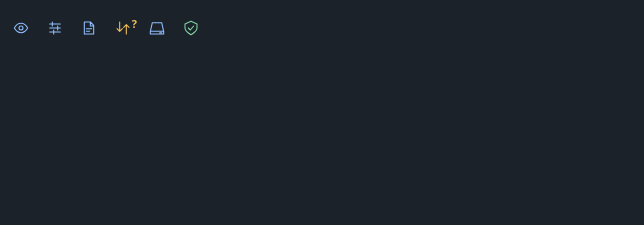
network preserves measured zeros and hides fully unknown rows and combined totals
Hover over the button named "Network": x=123, y=28 [107, 12, 139, 44]
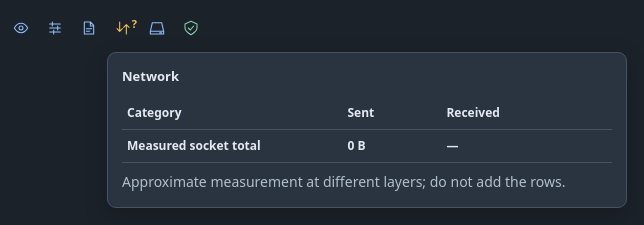
Expected: the number of rows is 2, [122, 96, 612, 129]; [122, 129, 612, 162]
Expected: the row "Measured socket total 0 B —" is shown, [122, 129, 612, 162]
